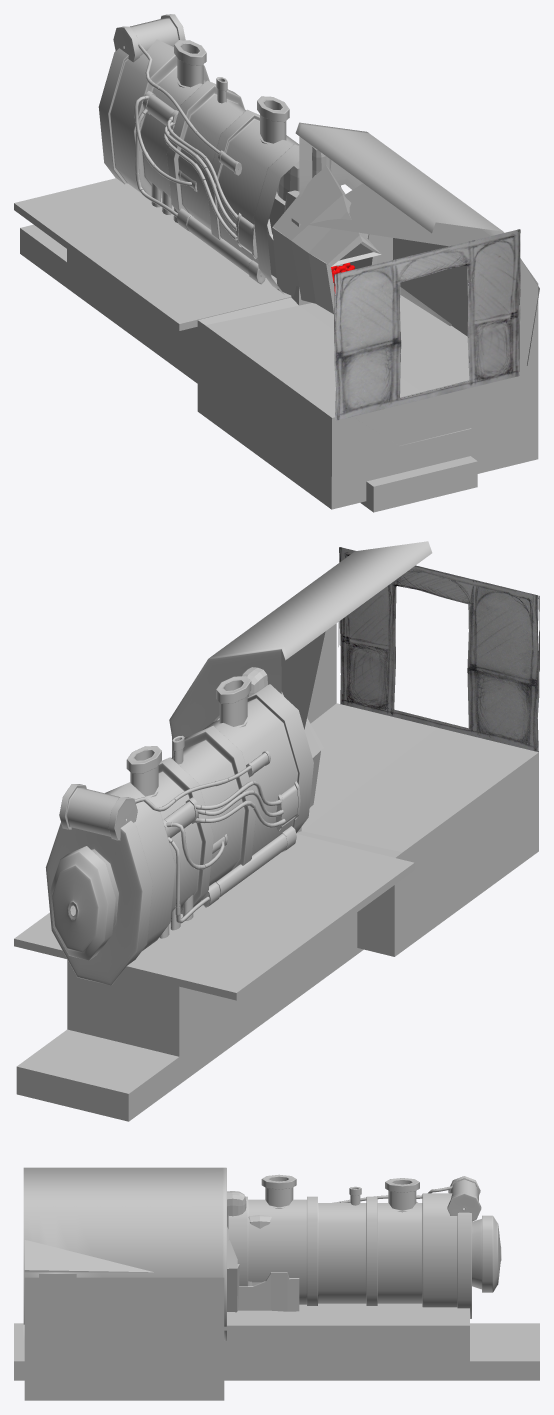
Rendered from Train10.fbx.
The picture shows the model from 3 angles, top to bottom: view 1: azimuth 30°, elevation 25°; view 2: azimuth 150°, elevation 25°; view 3: azimuth 270°, elevation 25°; orthographic projection. The views are drawn at different scales.
Visible parts, largest first — view 1: Cube, BezierCurve, SideWall.001, Cube.001, Cube.002, Cube.005, BezierCurve.011, BezierCurve.003, BezierCurve.004, BezierCurve.012, BezierCurve.001, BezierCurve.006 (+4 smaller); view 2: Cube, BezierCurve, Cube.002, Cube.001, SideWall.001, BezierCurve.011, BezierCurve.003, BezierCurve.004, BezierCurve.012, BezierCurve.001, Cube.005, BezierCurve.013 (+1 smaller); view 3: Cube, BezierCurve, BezierCurve.011, Cube.002, Cube.001, Cube.005, BezierCurve.003, BezierCurve.012, BezierCurve.001.
Boxes of the visible parts, x1,y1,x2,y2 form: Cube: [197, 183, 538, 509]; BezierCurve: [98, 39, 341, 294]; SideWall.001: [334, 229, 520, 420]; Cube.001: [14, 178, 291, 330]; Cube.002: [20, 224, 477, 512]; Cube.005: [266, 145, 381, 314]; BezierCurve.011: [295, 122, 539, 446]; BezierCurve.003: [113, 14, 185, 62]; BezierCurve.004: [177, 208, 265, 284]; BezierCurve.012: [257, 96, 289, 143]; BezierCurve.001: [174, 40, 206, 87]; BezierCurve.006: [142, 91, 178, 130]; Cube: [172, 623, 538, 956]; BezierCurve: [45, 684, 313, 985]; Cube.002: [16, 912, 363, 1121]; Cube.001: [14, 834, 414, 1000]; SideWall.001: [338, 547, 539, 752]; BezierCurve.011: [169, 541, 432, 739]; BezierCurve.003: [59, 784, 137, 840]; BezierCurve.004: [201, 826, 296, 907]; BezierCurve.012: [216, 676, 251, 727]; BezierCurve.001: [126, 746, 161, 797]; Cube.005: [213, 667, 323, 807]; BezierCurve.013: [275, 781, 300, 830]; Cube: [24, 1240, 224, 1400]; BezierCurve: [228, 1193, 501, 1318]; BezierCurve.011: [23, 1167, 226, 1340]; Cube.002: [14, 1323, 539, 1380]; Cube.001: [224, 1303, 469, 1330]; Cube.005: [227, 1191, 299, 1312]; BezierCurve.003: [447, 1176, 481, 1221]; BezierCurve.012: [261, 1174, 296, 1208]; BezierCurve.001: [385, 1178, 419, 1212].
Bounding box in the file's own units: 243 × 275 × 657.
